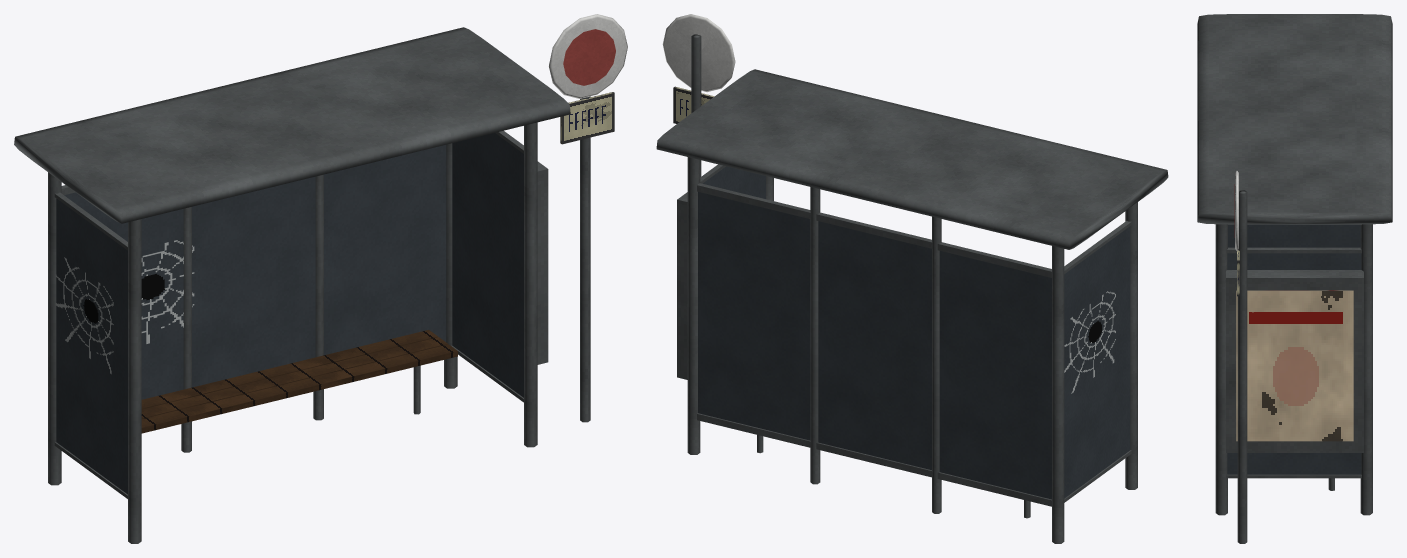
The model's file is ext_bus_stop.glb.
3 renders of one model, left to right at view 1: azimuth 30°, elevation 25°; view 2: azimuth 150°, elevation 25°; view 3: azimuth 270°, elevation 25°, orthographic. The views are drawn at different scales.
Visible parts, largest first — view 1: shelter-col, detail; view 2: shelter-col, detail; view 3: shelter-col, detail.
Part boxes in pixels (left/top/right/bottom): shelter-col: left=14, top=27, right=570, bottom=543; detail: left=54, top=14, right=627, bottom=498; shelter-col: left=656, top=69, right=1168, bottom=543; detail: left=662, top=14, right=1131, bottom=518; shelter-col: left=1197, top=14, right=1392, bottom=515; detail: left=1226, top=171, right=1363, bottom=543.
Size of what is drawn, in the model's own units: 4.02 by 2.94 by 1.42.
Materials: 8 (8 with a texture image).
